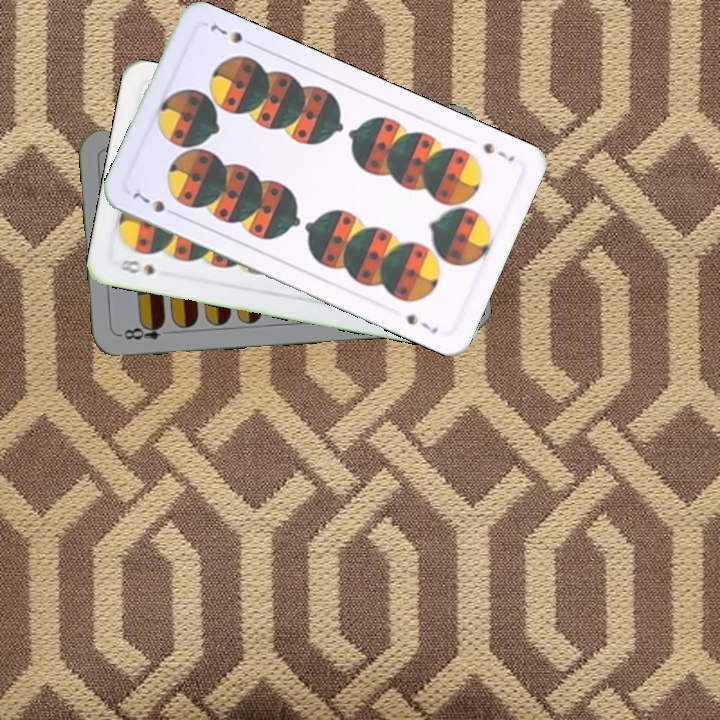E8: (116, 318, 176, 342)
S7: (129, 188, 182, 220), (479, 138, 518, 165)
S8: (116, 255, 158, 278)
